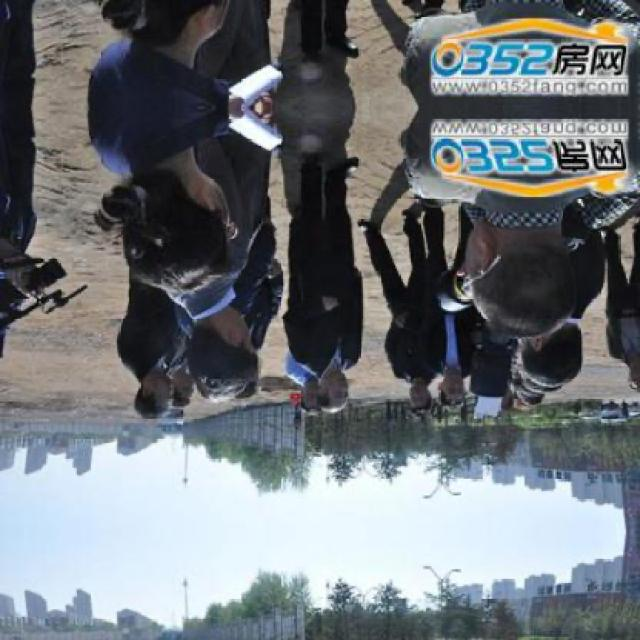sin casco: (104, 180, 253, 312), (100, 356, 198, 424), (198, 322, 270, 393), (280, 371, 360, 409), (395, 376, 463, 416)
